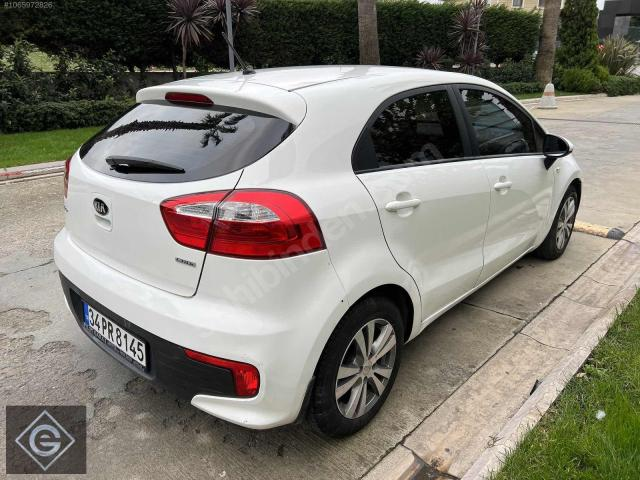plaka: (84, 303, 146, 371)
